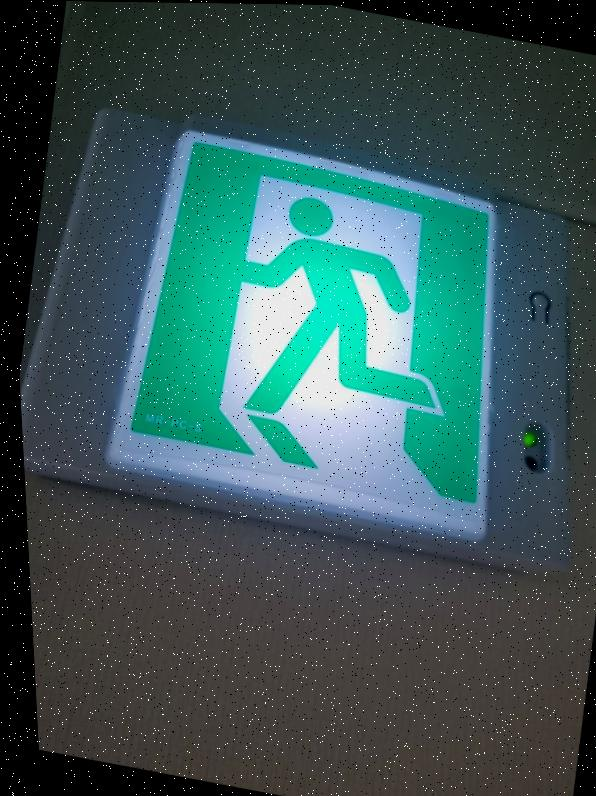emergency_exit: (103, 128, 496, 547)
